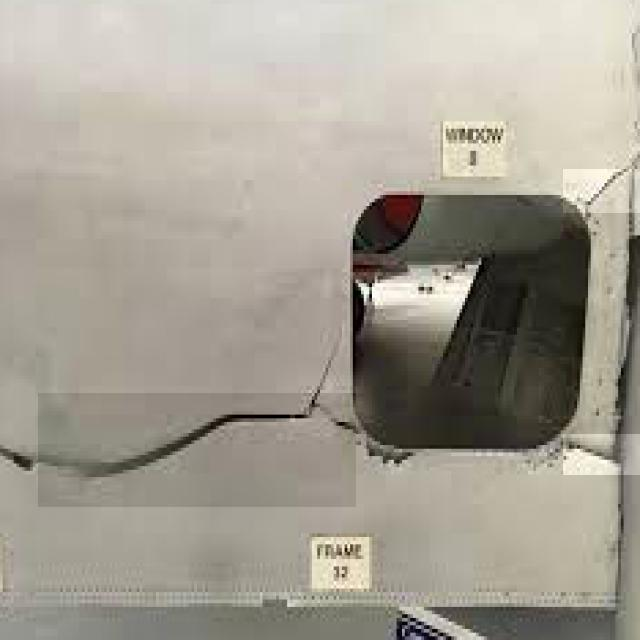crack: (39, 395, 357, 509), (564, 171, 640, 215), (564, 435, 640, 476)
